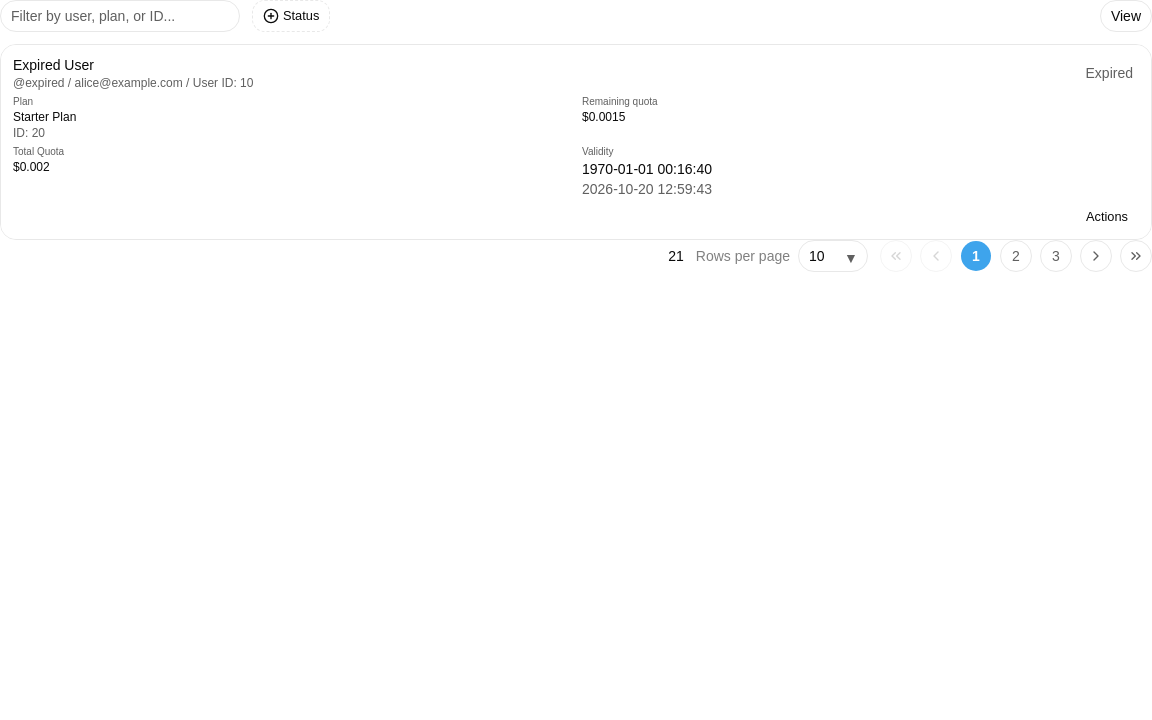
Test: admin subscriptions table › shows the persisted status when an active subscription window has elapsed
Click the button with aria-label "Actions" at [1099, 217], box [1058,203,1139,231]
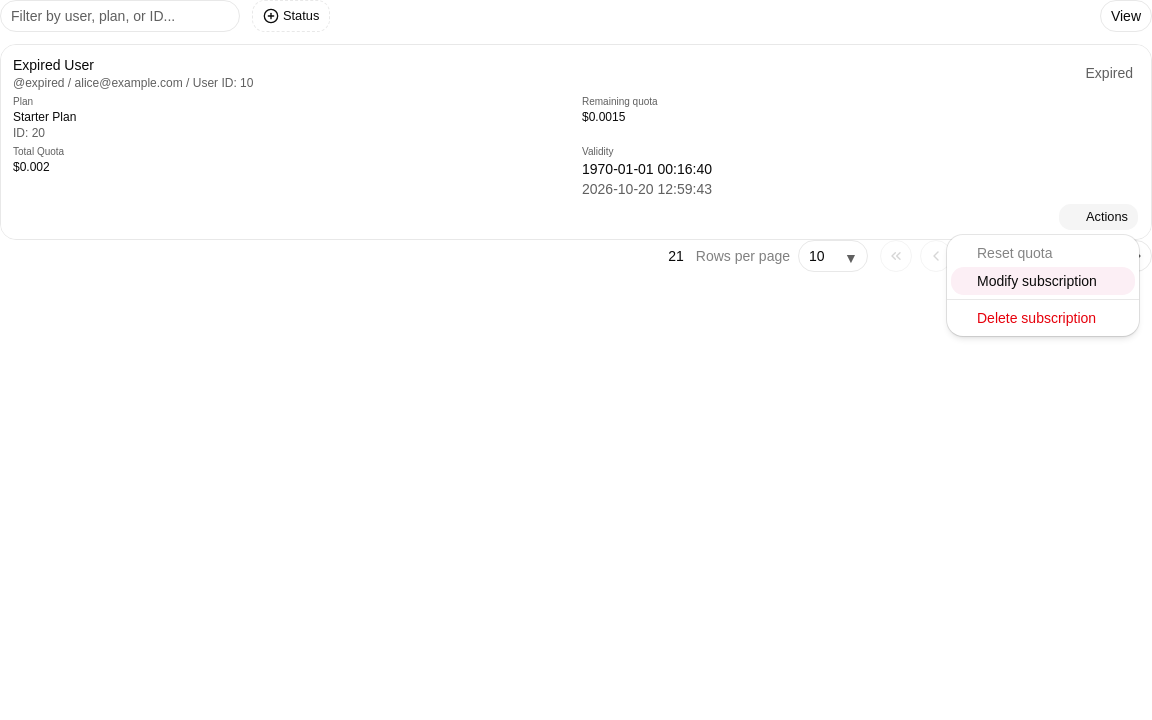
Expected: the menu item "Modify subscription" is shown
Click the menu item "Modify subscription" at [1043, 281], box [951,267,1135,295]
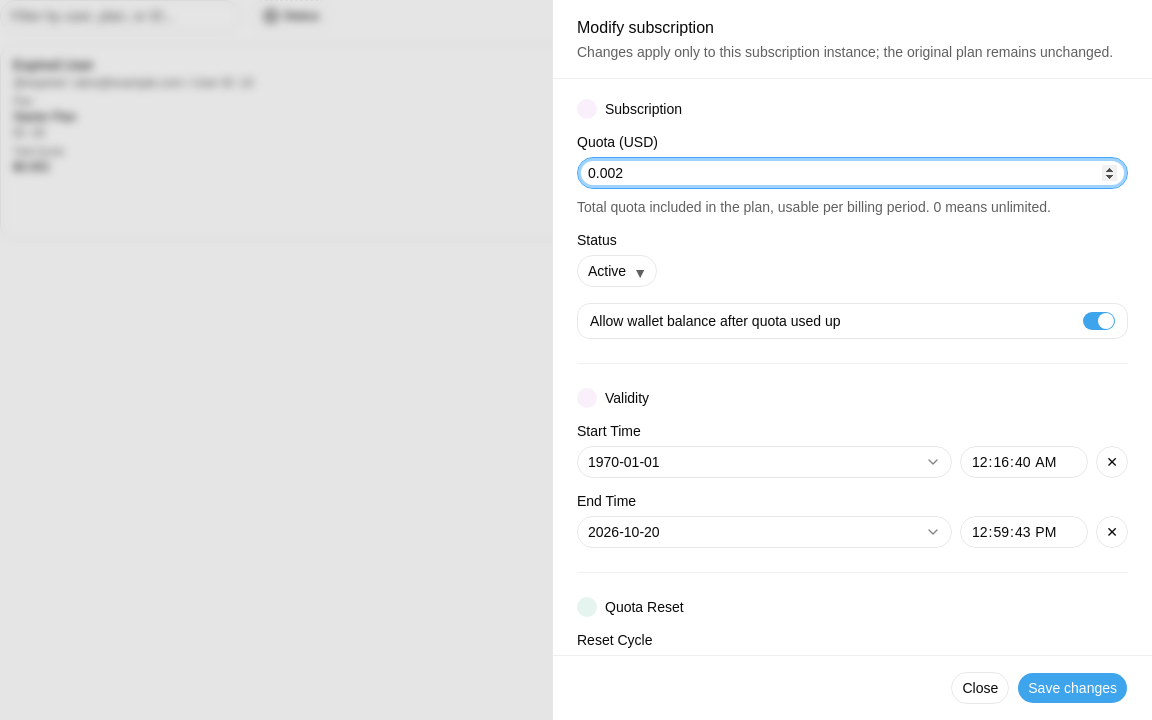
Expected: the dropdown named "Status" shows "Active", [577,255,657,287]
